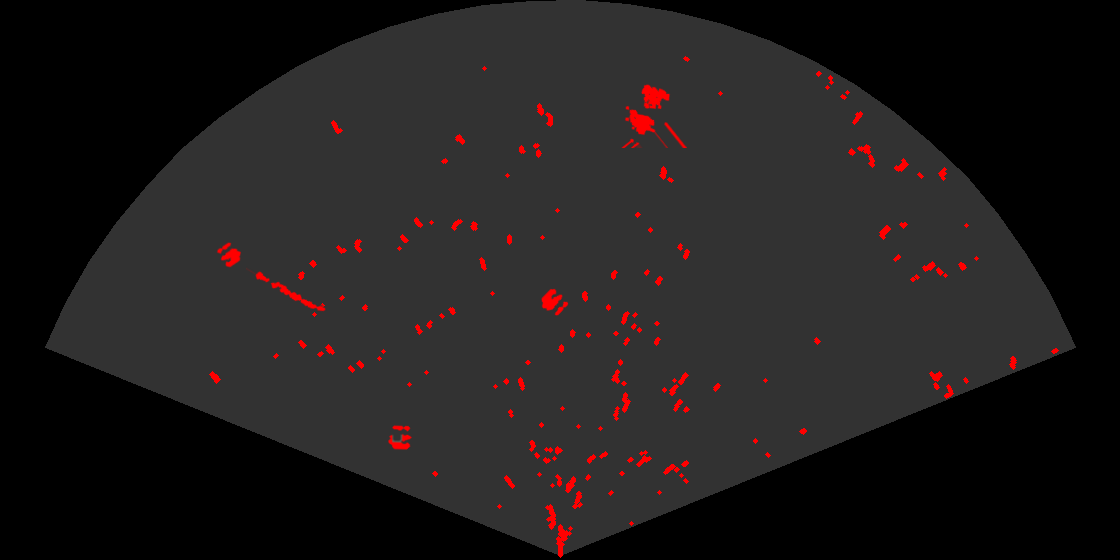ball: (540, 287, 570, 317), (215, 241, 243, 269), (387, 424, 414, 451)
cage: (620, 83, 687, 148)
chain: (246, 266, 327, 313)
